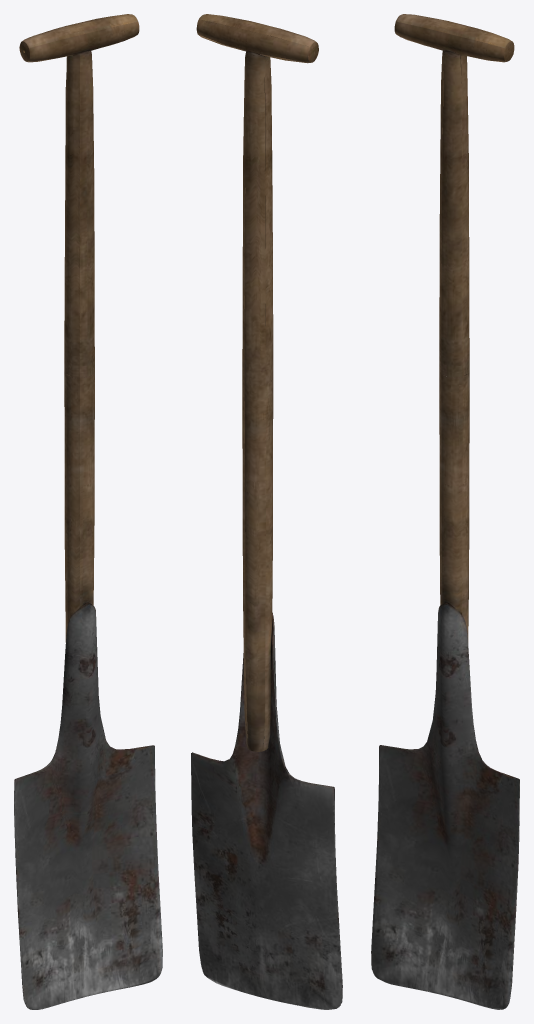
File: ph_rusted_spade_01.glb
The picture shows the model from 3 angles, left to right: view 1: azimuth 30°, elevation 25°; view 2: azimuth 150°, elevation 25°; view 3: azimuth 330°, elevation 25°; orthographic projection. The views are drawn at different scales.
Visible parts, largest first — view 1: rusted_spade_01; view 2: rusted_spade_01; view 3: rusted_spade_01.
Part boxes in pixels (x1,y1,x2,y2): rusted_spade_01: (14, 14, 162, 1009); rusted_spade_01: (191, 14, 342, 1009); rusted_spade_01: (371, 14, 519, 1009).
Size of the model in its own units: 0.1685 by 1.1 by 0.0456.
1 material, 1 textured.
